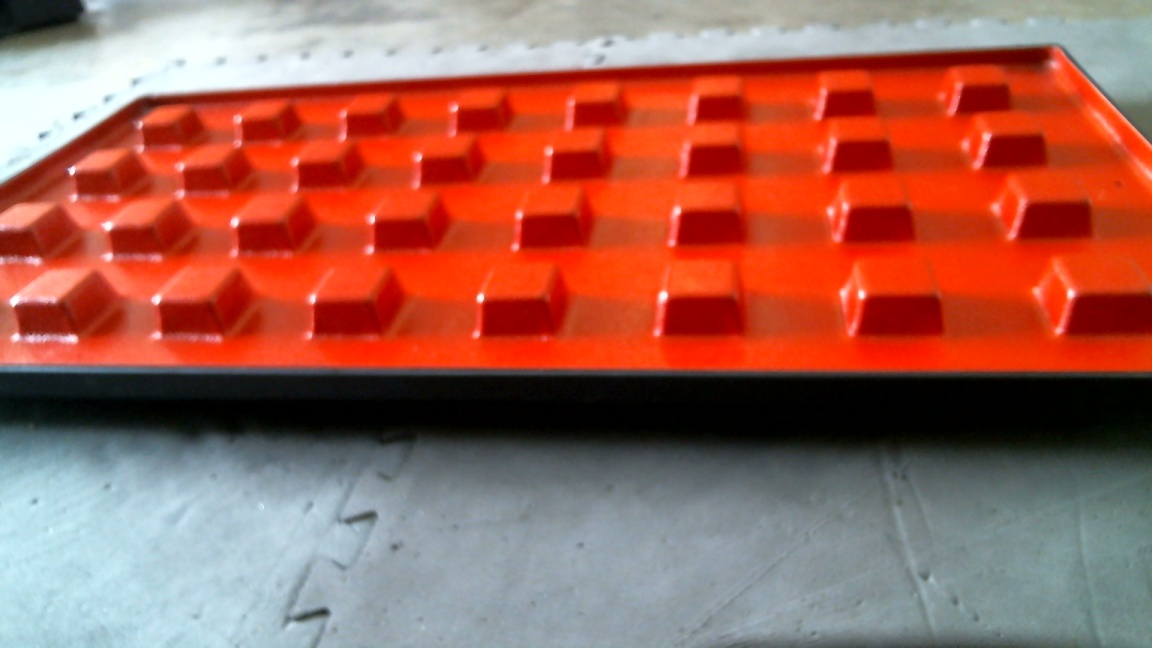red_foundation: (1, 28, 1152, 469)
